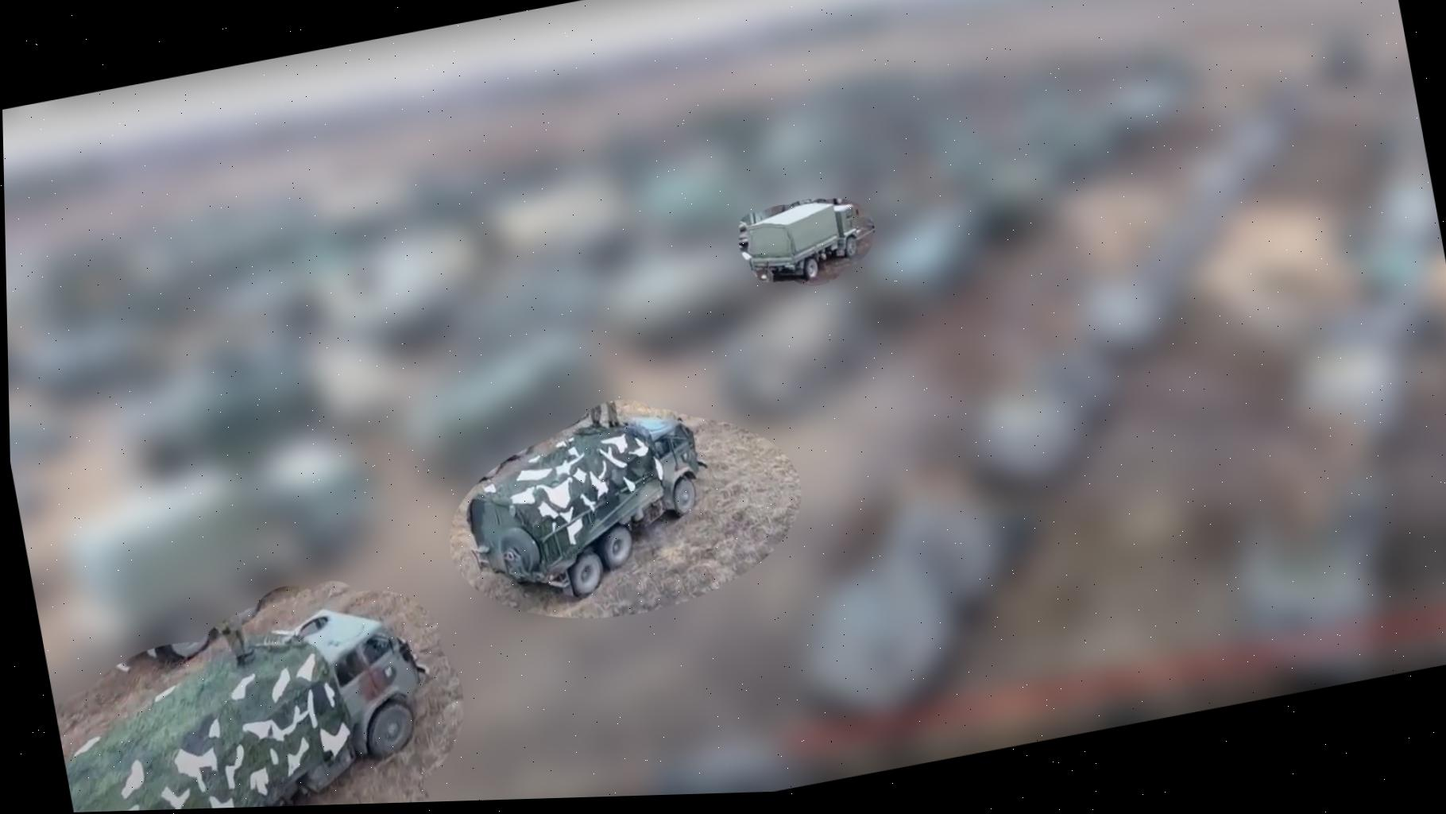truck: (43, 585, 458, 813), (447, 395, 728, 621), (739, 191, 871, 291)
